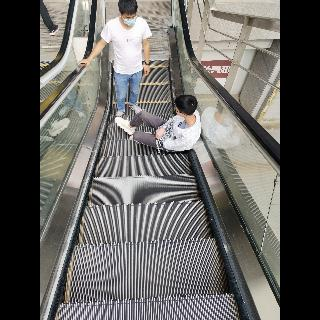anomaly: (112, 95, 214, 153)
normal: (79, 1, 163, 114)
